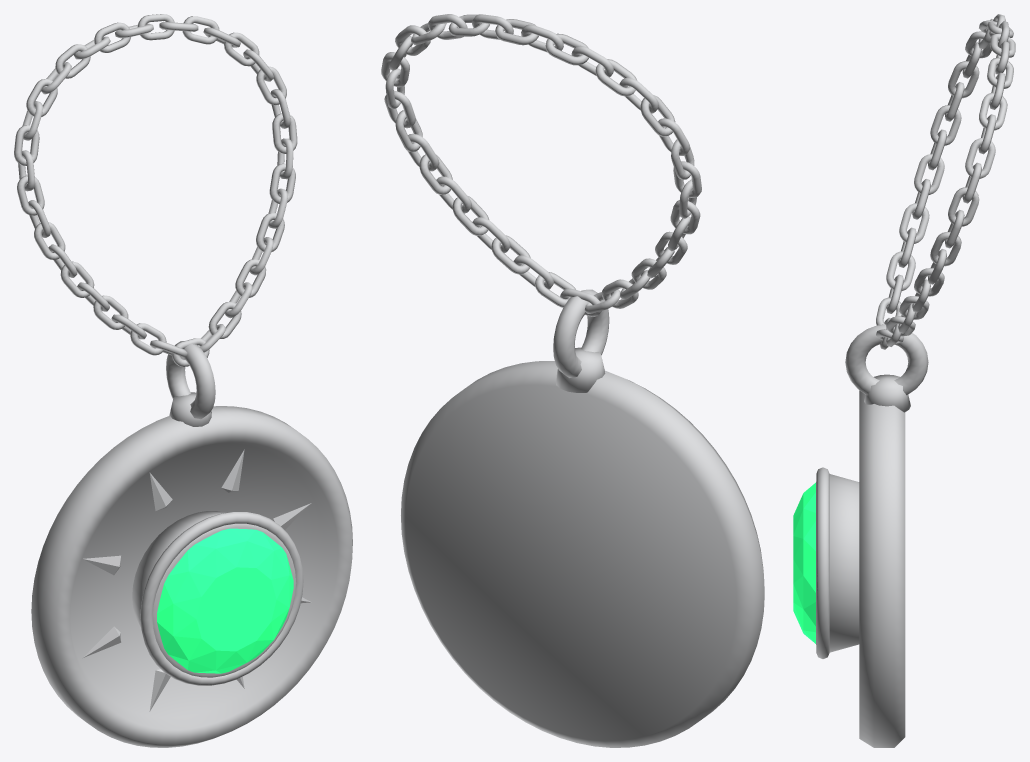
Rendered from jewel_amulet_uncommon.glb.
3 views of the same model, side by side, from view 1: azimuth 30°, elevation 25°; view 2: azimuth 150°, elevation 25°; view 3: azimuth 270°, elevation 25° (orthographic). The views are drawn at different scales.
Visible parts, largest first — view 1: jewel_amulet_uncommon; view 2: jewel_amulet_uncommon; view 3: jewel_amulet_uncommon.
Part boxes in pixels (bbox=[...]): jewel_amulet_uncommon: bbox=[14, 14, 352, 747]; jewel_amulet_uncommon: bbox=[381, 14, 764, 747]; jewel_amulet_uncommon: bbox=[793, 14, 1015, 747].
Size of the model in its own units: 2 by 4.15 by 1.2.
